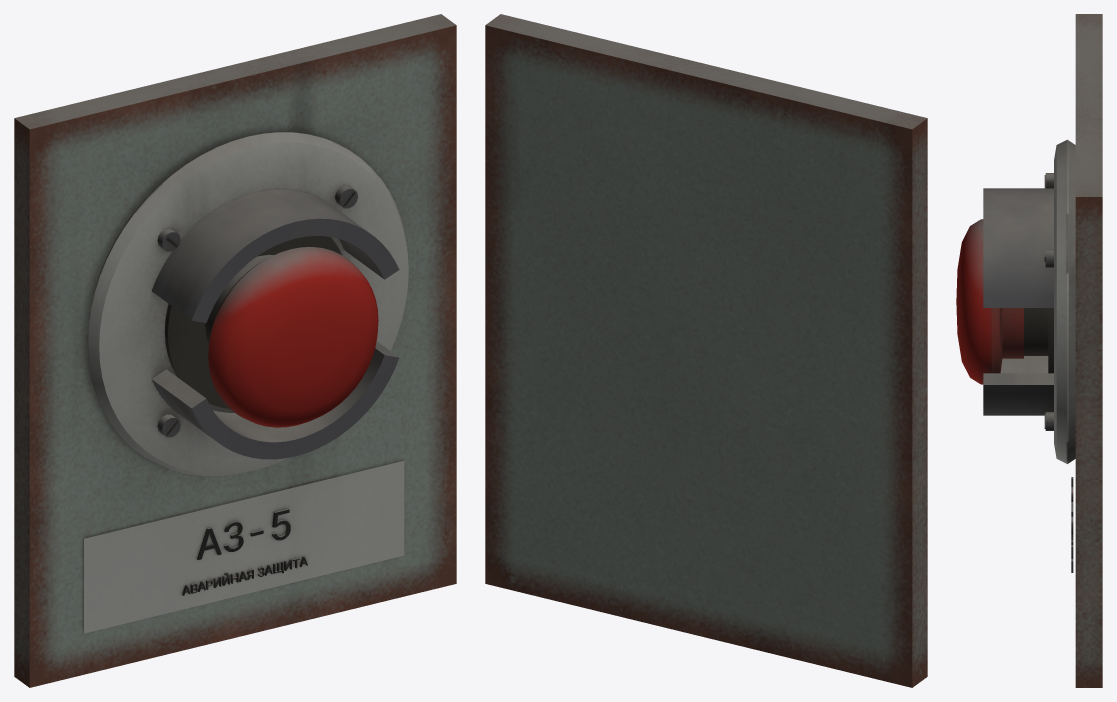
File: SM_Button_AZ5_Emergency.fbx
3 renders of one model, left to right at view 1: azimuth 30°, elevation 25°; view 2: azimuth 150°, elevation 25°; view 3: azimuth 270°, elevation 25°, orthographic. The views are drawn at different scales.
Visible parts, largest first — view 1: SM_Button_AZ5_Emergency; view 2: SM_Button_AZ5_Emergency; view 3: SM_Button_AZ5_Emergency.
Boxes of the visible parts, x1,y1,x2,y2 form: SM_Button_AZ5_Emergency: [14, 14, 456, 687]; SM_Button_AZ5_Emergency: [485, 14, 927, 687]; SM_Button_AZ5_Emergency: [956, 14, 1102, 687].
Bounding box in the file's own units: 0.16 × 0.2 × 0.054.
1 material, 1 textured.
